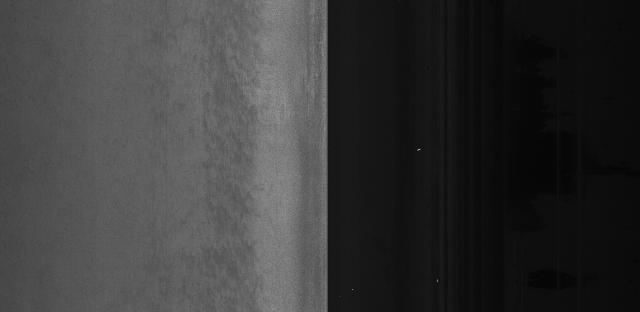silk_spot: (190, 35, 268, 248)
